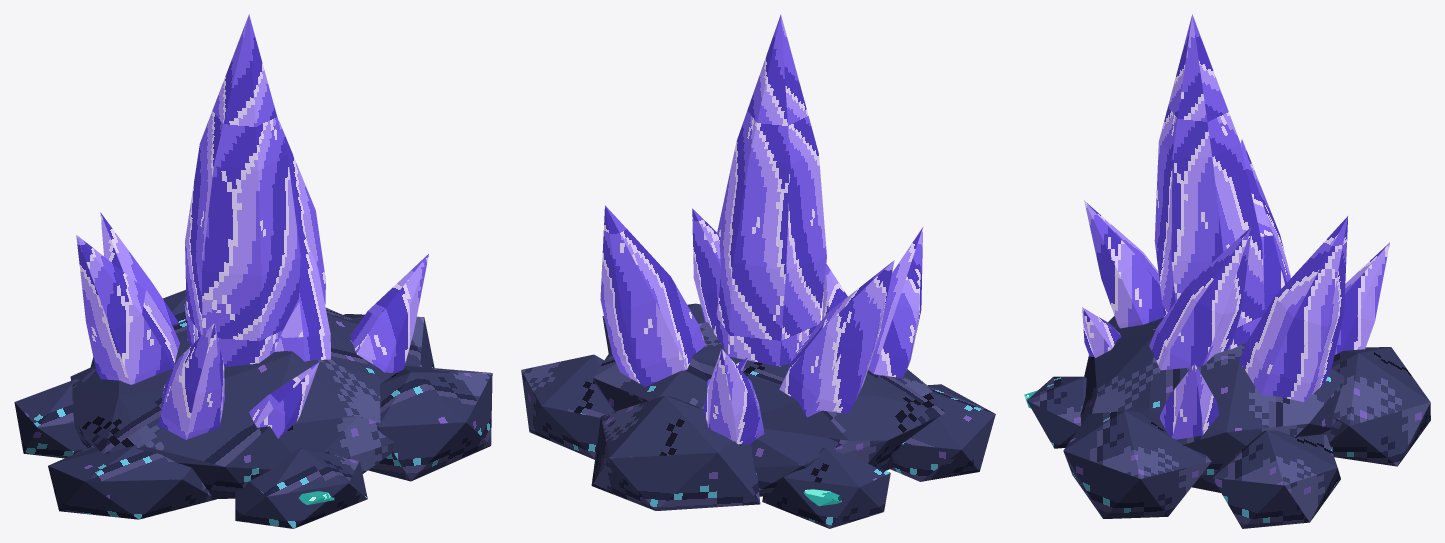
Rendered from cave_crystal.glb.
3 views of the same model, side by side, from view 1: azimuth 30°, elevation 25°; view 2: azimuth 150°, elevation 25°; view 3: azimuth 270°, elevation 25° (orthographic). The views are drawn at different scales.
Parts seen in each view (by area): view 1: RockBase, Crystal; view 2: Crystal, RockBase; view 3: Crystal, RockBase.
Part boxes in pixels (x1,y1,x2,y2): RockBase: [14, 290, 492, 528]; Crystal: [76, 14, 428, 439]; Crystal: [600, 14, 923, 444]; RockBase: [521, 303, 995, 528]; Crystal: [1082, 14, 1389, 439]; RockBase: [1027, 316, 1430, 528].
Bounding box in the file's own units: 4.19 × 4.19 × 3.71.
Materials: 3 (3 with a texture image).
